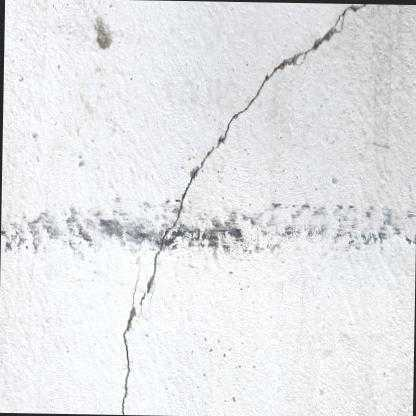crack: (145, 3, 368, 292), (120, 304, 133, 415)
